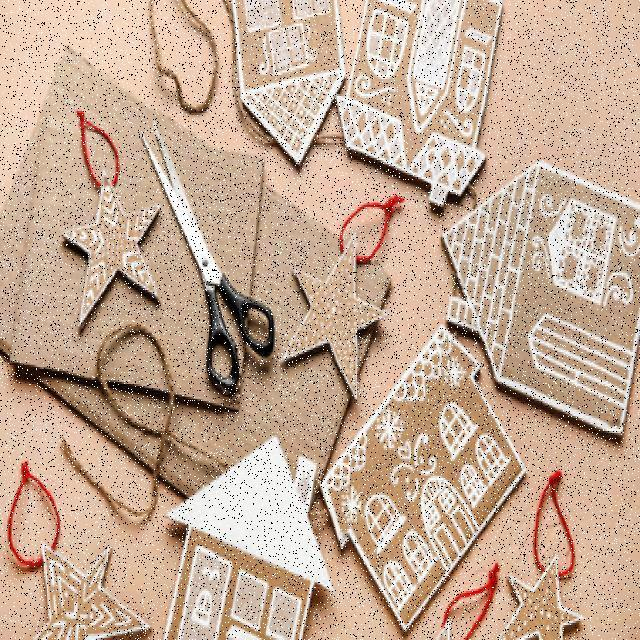scissors: (137, 120, 276, 396)
